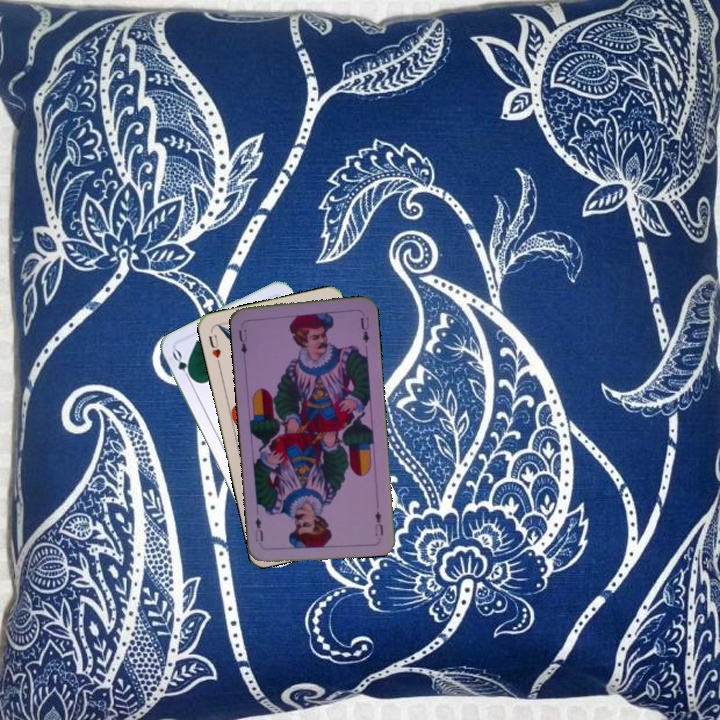EU: (234, 325, 250, 357), (371, 507, 386, 539)
GO: (168, 346, 197, 385)
HU: (204, 330, 223, 368)
